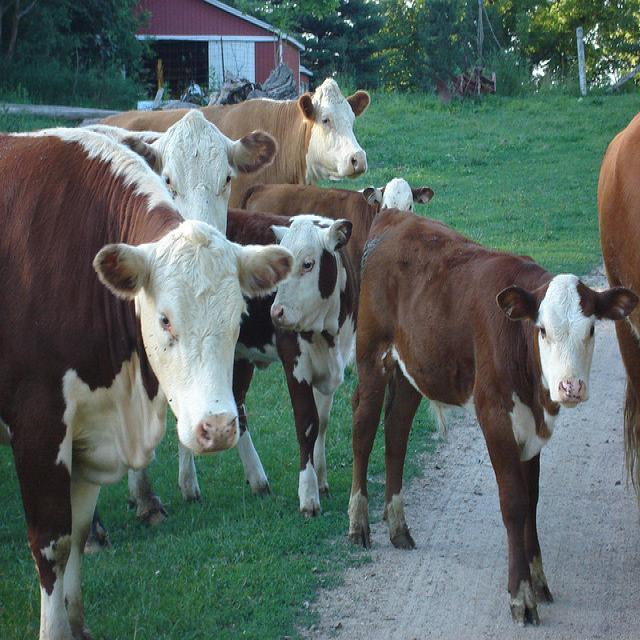cow: (0, 128, 291, 636), (347, 207, 635, 624), (127, 205, 358, 519), (93, 75, 370, 207), (84, 107, 276, 232), (241, 179, 433, 279), (595, 108, 637, 495), (360, 176, 432, 212)
